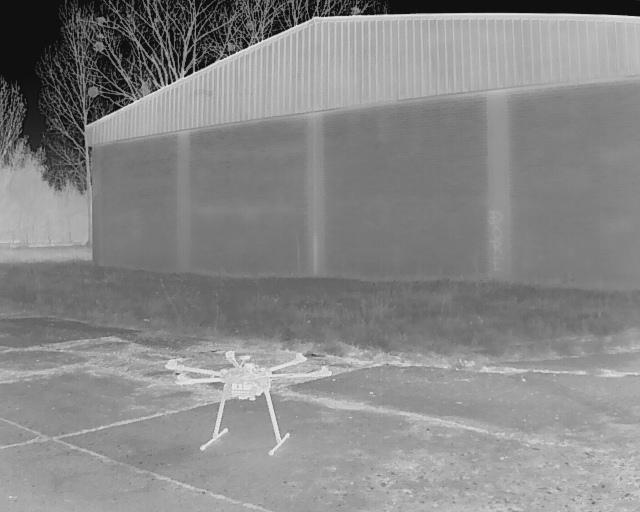drone: (150, 337, 329, 454)
